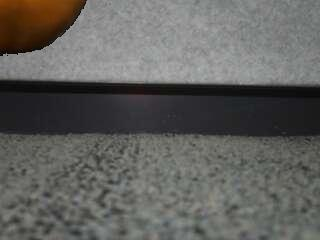Potato: (0, 0, 85, 54)
